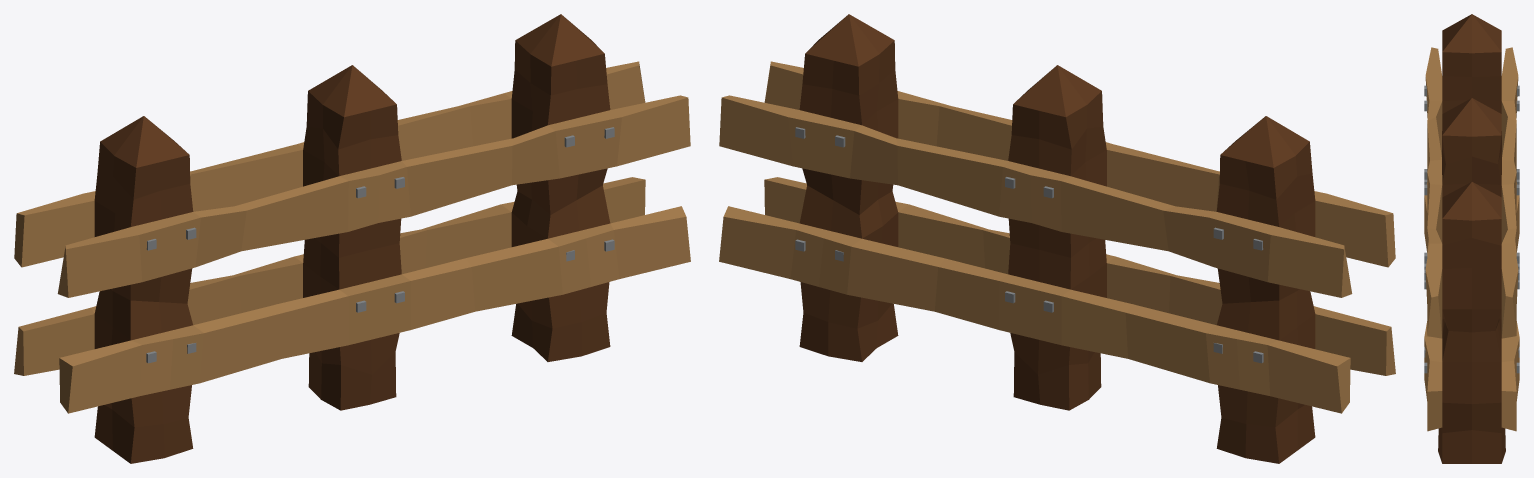
File: fence.fbx
3 views of the same model, side by side, from view 1: azimuth 30°, elevation 25°; view 2: azimuth 150°, elevation 25°; view 3: azimuth 270°, elevation 25° (orthographic). The views are drawn at different scales.
Parts seen in each view (by area): view 1: Cube; view 2: Cube; view 3: Cube.
Boxes of the visible parts, left/top/right/bottom form: Cube: left=14, top=14, right=690, bottom=463; Cube: left=719, top=14, right=1395, bottom=463; Cube: left=1424, top=14, right=1519, bottom=463.
Bounding box in the file's own units: 10 × 5 × 1.6.
